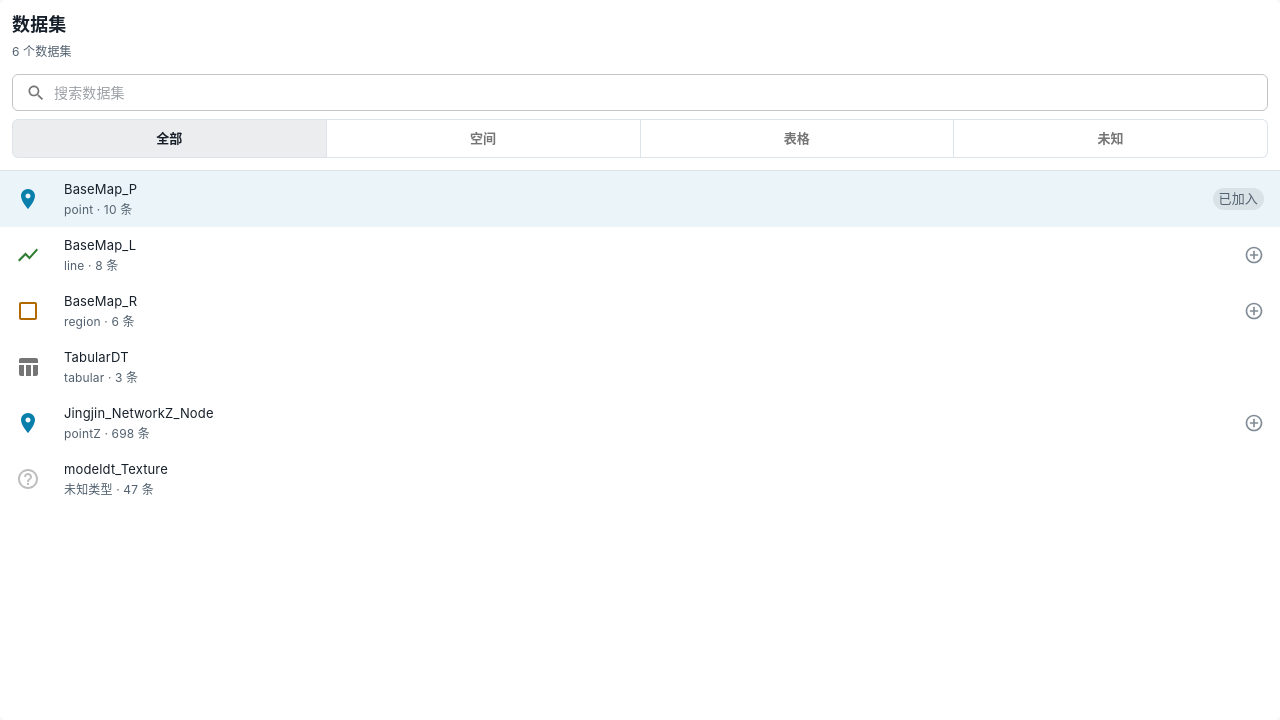
Test: DatasetExplorer › 按数据集类型筛选未知类型
Expected: the element named "数据集类型过滤" is shown, [12,119,1268,158]
Type "Jingjin" into the field labelled "搜索数据集".
click(661, 93); type("Jingjin")  # box [54,74,1268,111]
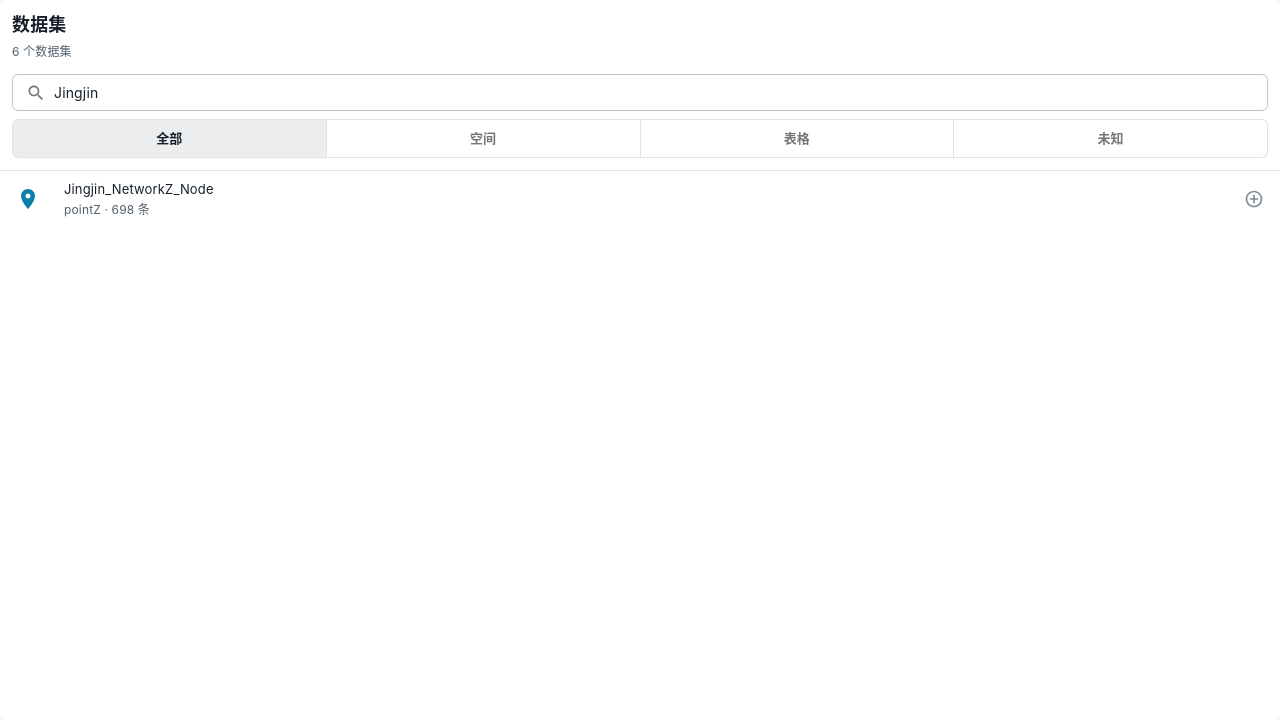
Clear the field named "搜索数据集" at (661, 93), box [54,74,1268,111]
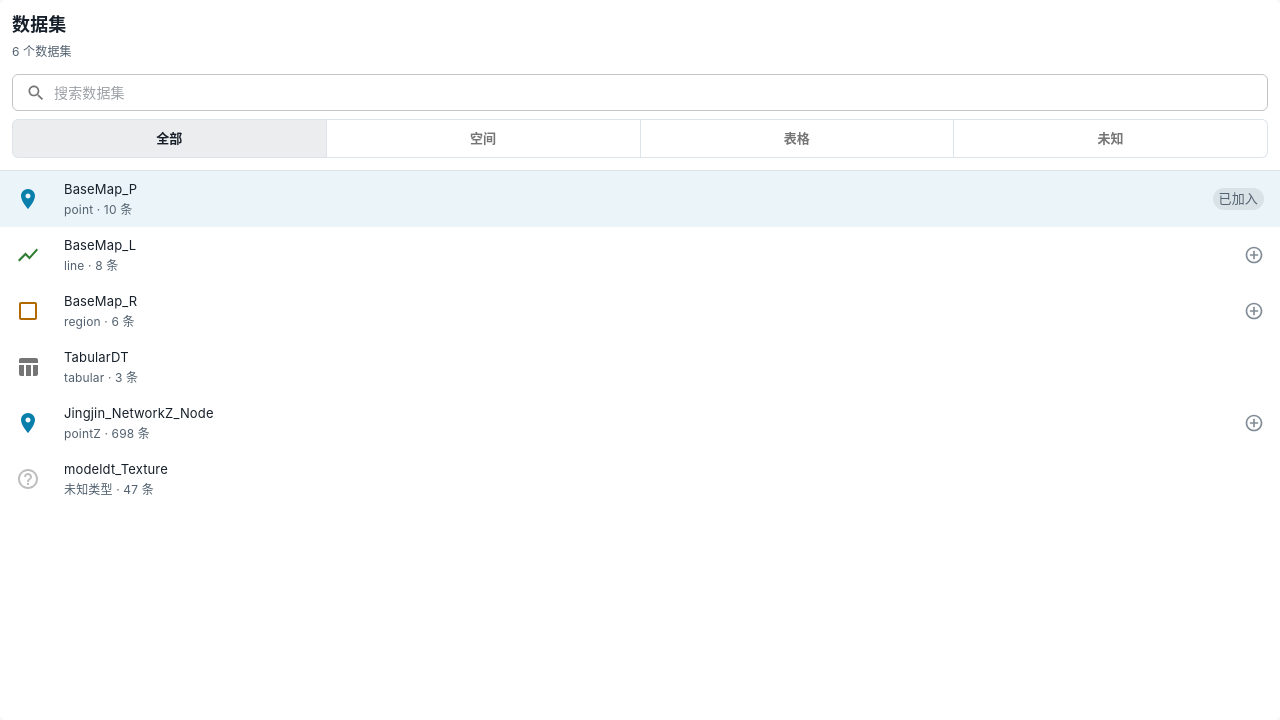
Click the button "未知".
click(1111, 138)  # box [953,119,1268,158]
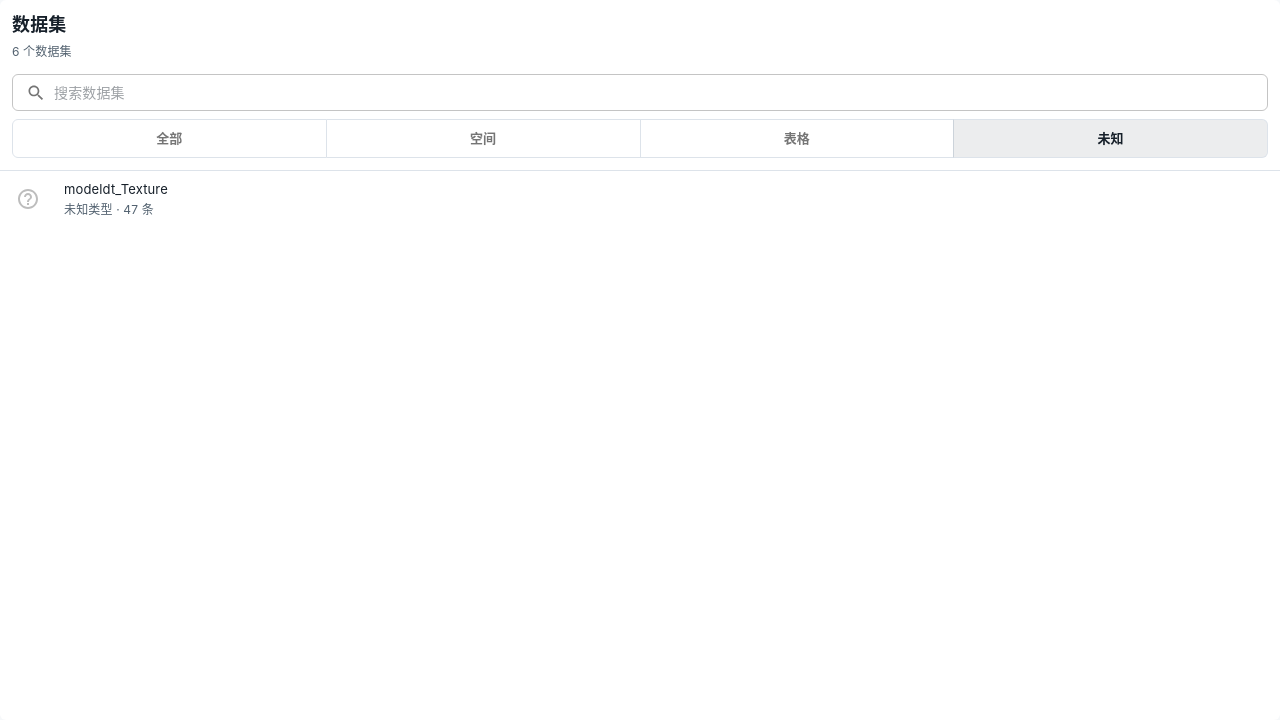
Now the text "modeldt_Texture" is shown, box [64,181,168,197]
Now the button "BaseMap_P" is gone
